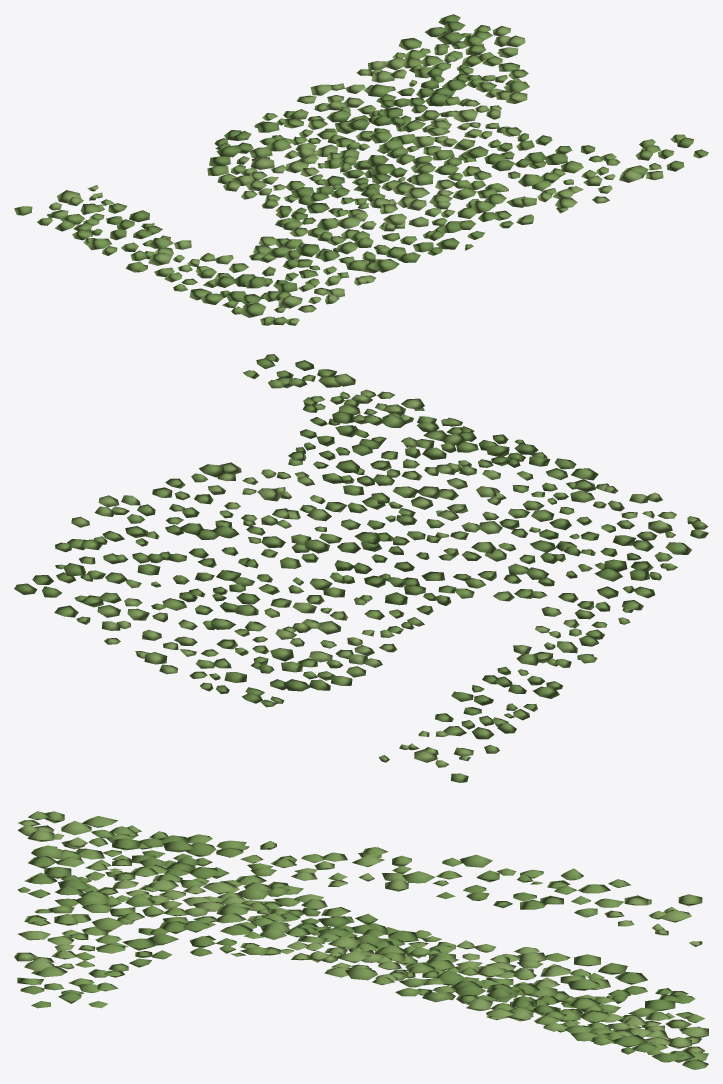
File: canopy-1-0--1.glb
The picture shows the model from 3 angles, top to bottom: view 1: azimuth 30°, elevation 25°; view 2: azimuth 150°, elevation 25°; view 3: azimuth 270°, elevation 25°; orthographic projection. The views are drawn at different scales.
Size of the model in its own units: 512 by 155 by 515.
Materials: 1 (1 with a texture image).
